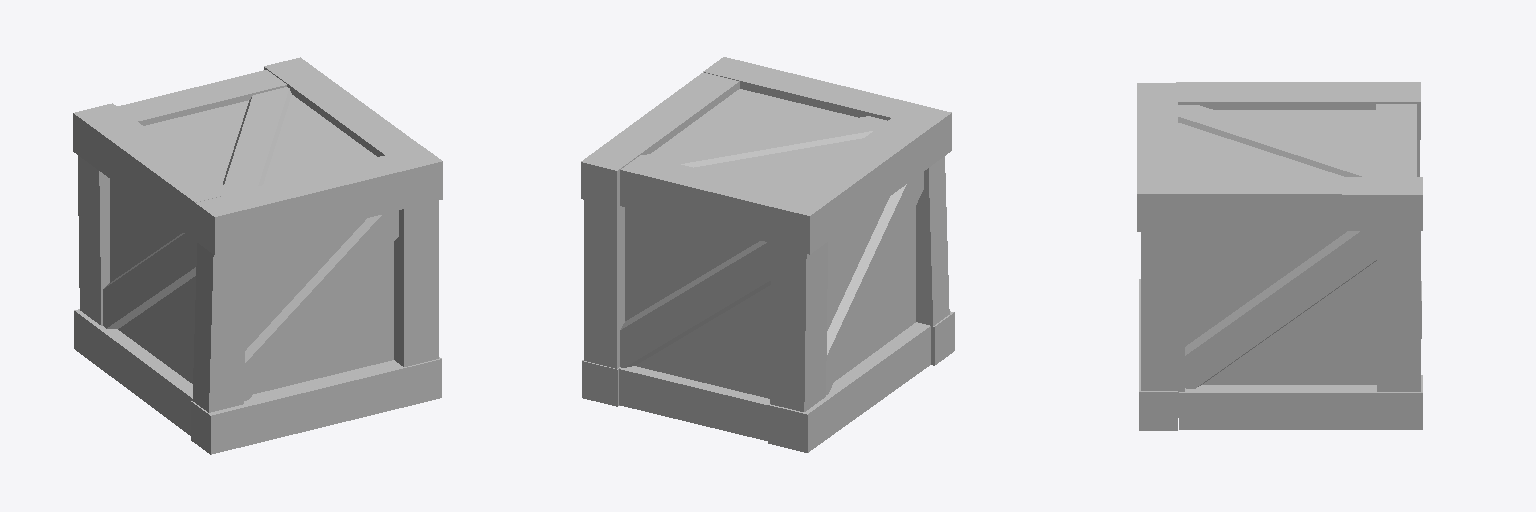
Rendered from stormwindcrate01.obj.
3 views of the same model, side by side, from view 1: azimuth 30°, elevation 25°; view 2: azimuth 150°, elevation 25°; view 3: azimuth 270°, elevation 25° (orthographic).
Parts seen in each view (by area): view 1: StormwindCrate01; view 2: StormwindCrate01; view 3: StormwindCrate01.
Part boxes in pixels (left/top/right/bottom): StormwindCrate01: left=73, top=57, right=442, bottom=454; StormwindCrate01: left=581, top=57, right=954, bottom=452; StormwindCrate01: left=1137, top=82, right=1422, bottom=430.
Bounding box in the file's own units: 1.27 × 1.24 × 1.35.